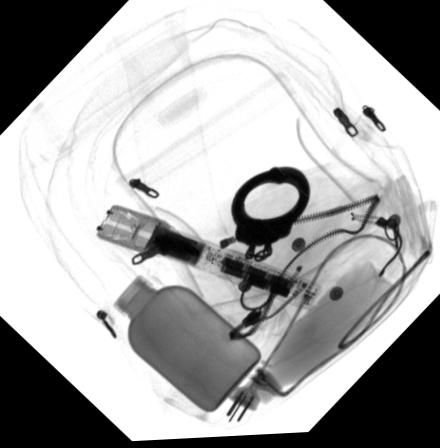Baton: (94, 202, 322, 314)
HandCuffs: (228, 167, 311, 265)
